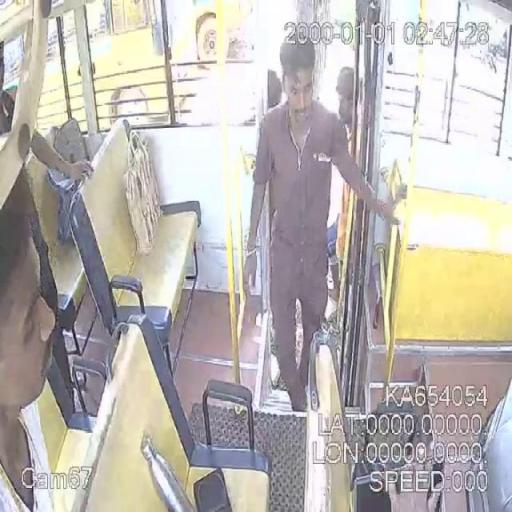persona: (242, 36, 400, 412)
